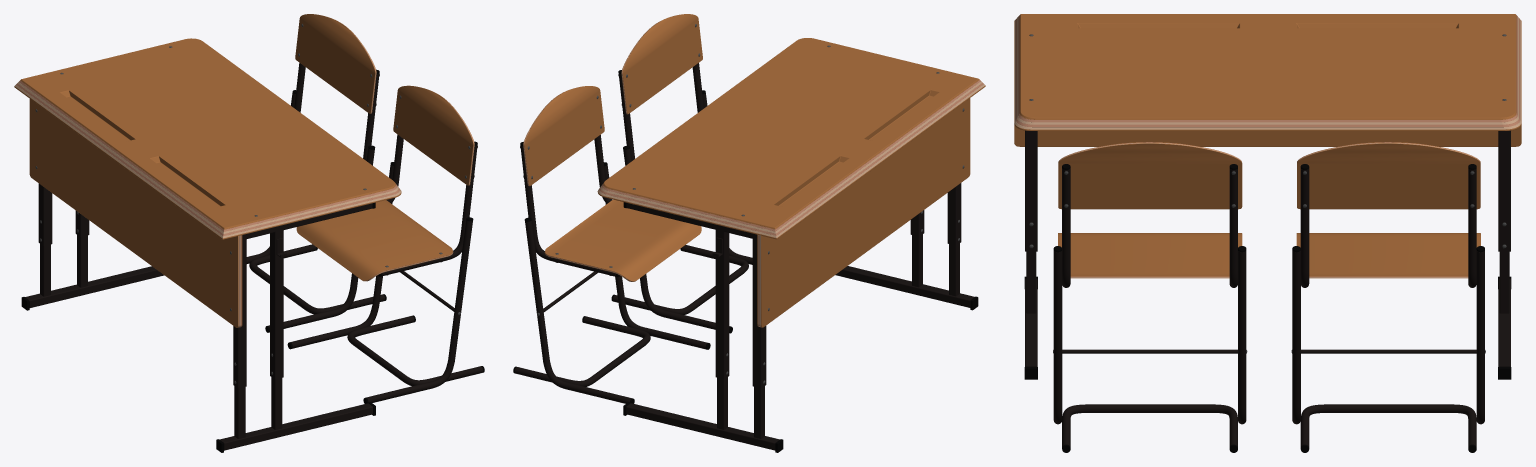
Rendered from Парта4.FBX.
3 views of the same model, side by side, from view 1: azimuth 30°, elevation 25°; view 2: azimuth 150°, elevation 25°; view 3: azimuth 270°, elevation 25° (orthographic). The views are drawn at different scales.
Parts seen in each view (by area): view 1: Rectangle4740, Rectangle4739, Box10204, Rectangle4741, Line3019, Rectangle4742, Rectangle4744, Box10205, Line3020; view 2: Rectangle4740, Rectangle4739, Box10205, Rectangle4743, Line3020, Rectangle4742, Rectangle4744, Box10204, Line3019; view 3: Rectangle4740, Rectangle4742, Rectangle4744, Line3019, Line3020, Rectangle4743, Rectangle4741, Rectangle4739, Box10204, Box10205.
Part boxes in pixels (x1=…): Rectangle4740: x1=14, y1=38, x2=401, y2=239; Rectangle4739: x1=29, y1=99, x2=242, y2=327; Box10204: x1=216, y1=188, x2=375, y2=452; Rectangle4741: x1=296, y1=200, x2=453, y2=281; Line3019: x1=287, y1=95, x2=484, y2=403; Rectangle4742: x1=393, y1=85, x2=474, y2=185; Rectangle4744: x1=295, y1=14, x2=376, y2=113; Box10205: x1=21, y1=46, x2=172, y2=310; Line3020: x1=246, y1=23, x2=386, y2=332; Rectangle4740: x1=597, y1=38, x2=985, y2=239; Rectangle4739: x1=757, y1=98, x2=970, y2=327; Box10205: x1=623, y1=188, x2=783, y2=452; Rectangle4743: x1=544, y1=199, x2=701, y2=281; Line3020: x1=513, y1=95, x2=710, y2=403; Rectangle4742: x1=621, y1=14, x2=702, y2=114; Rectangle4744: x1=523, y1=86, x2=604, y2=186; Box10204: x1=827, y1=45, x2=978, y2=310; Line3019: x1=611, y1=24, x2=752, y2=333; Rectangle4740: x1=1014, y1=14, x2=1521, y2=130; Rectangle4742: x1=1058, y1=142, x2=1242, y2=209; Rectangle4744: x1=1297, y1=142, x2=1480, y2=209; Line3019: x1=1053, y1=164, x2=1247, y2=452; Line3020: x1=1291, y1=164, x2=1485, y2=452; Rectangle4743: x1=1296, y1=233, x2=1480, y2=278; Rectangle4741: x1=1058, y1=233, x2=1242, y2=278; Rectangle4739: x1=1014, y1=125, x2=1521, y2=146; Box10204: x1=1024, y1=34, x2=1037, y2=379; Box10205: x1=1498, y1=34, x2=1511, y2=379.
Bounding box in the file's own units: 36.83 × 31.54 × 47.21.
